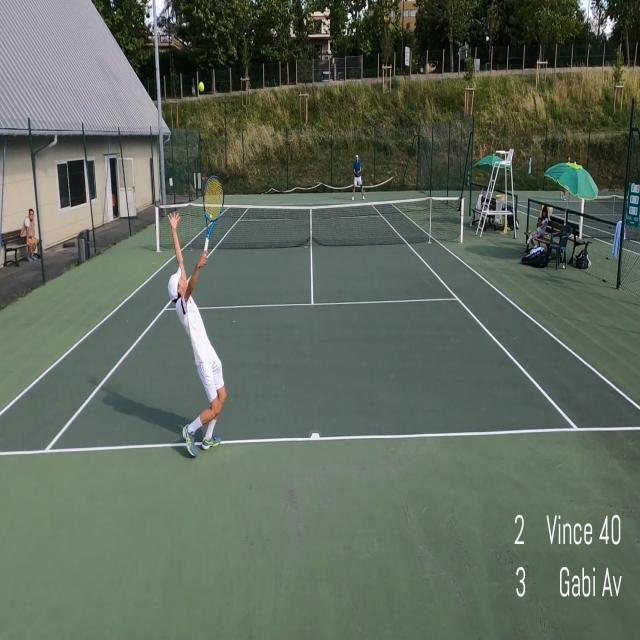ball: (198, 81, 205, 93)
